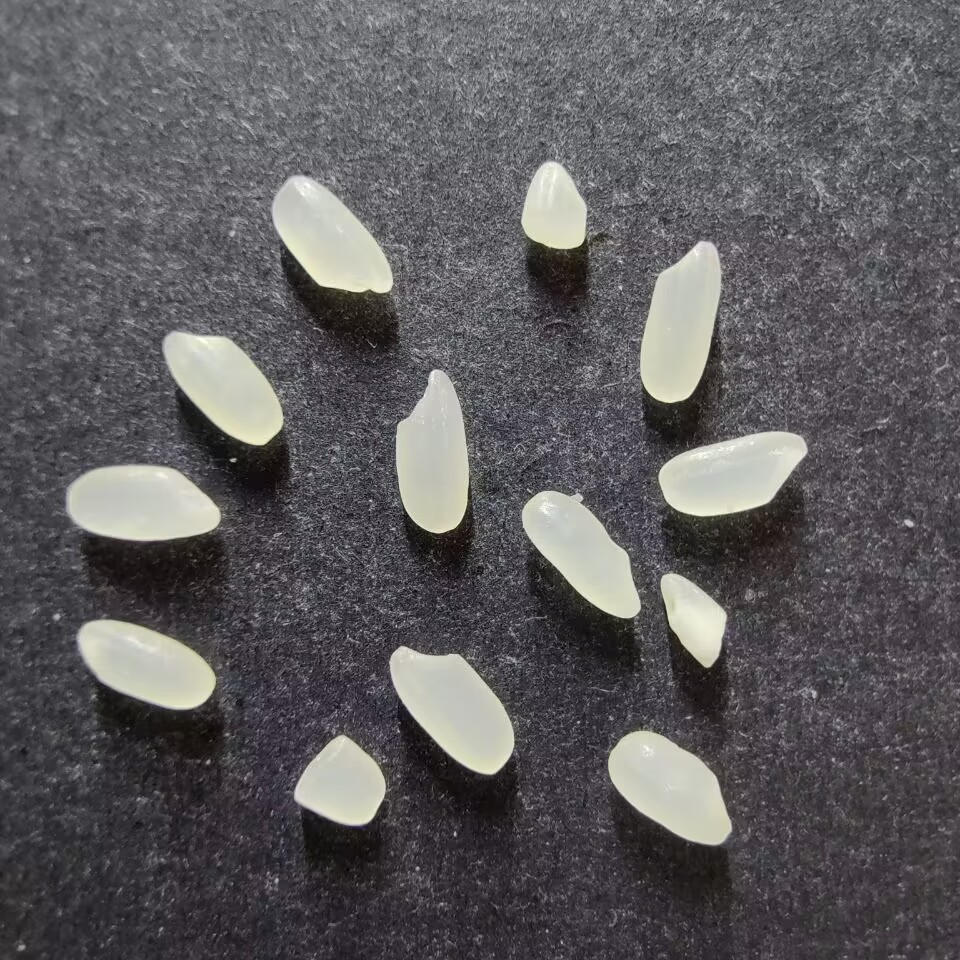broken: (292, 733, 386, 826), (659, 572, 727, 668), (520, 161, 588, 250)
rice: (388, 645, 514, 776), (521, 490, 639, 619), (270, 174, 393, 294), (607, 730, 733, 846), (162, 330, 284, 447), (639, 239, 722, 403), (657, 430, 808, 517), (77, 618, 217, 710), (393, 369, 470, 534), (65, 463, 221, 541)
